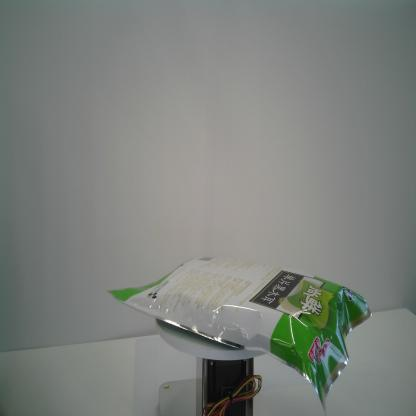Dried Food: (105, 256, 372, 416)
